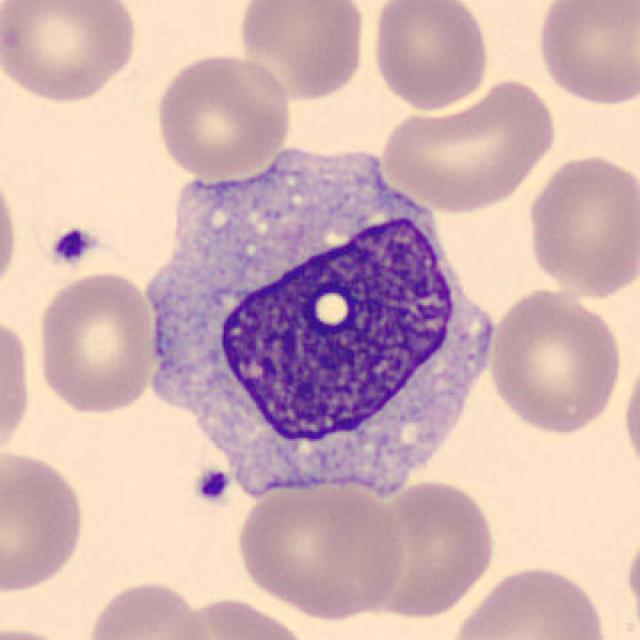Monocyte: (131, 134, 505, 522)
Platelets: (48, 224, 96, 270), (188, 466, 233, 504)
RBC: (233, 472, 409, 622), (375, 76, 562, 213), (484, 284, 626, 437), (358, 476, 500, 621), (32, 268, 160, 416), (151, 49, 295, 180), (523, 148, 638, 302), (0, 0, 142, 106), (368, 0, 492, 113), (234, 0, 369, 102), (442, 560, 613, 640), (0, 446, 89, 596), (532, 0, 638, 108), (81, 576, 215, 640), (162, 592, 313, 640), (0, 310, 34, 466), (0, 159, 23, 303), (620, 340, 640, 485), (622, 517, 640, 638), (0, 624, 87, 640)
